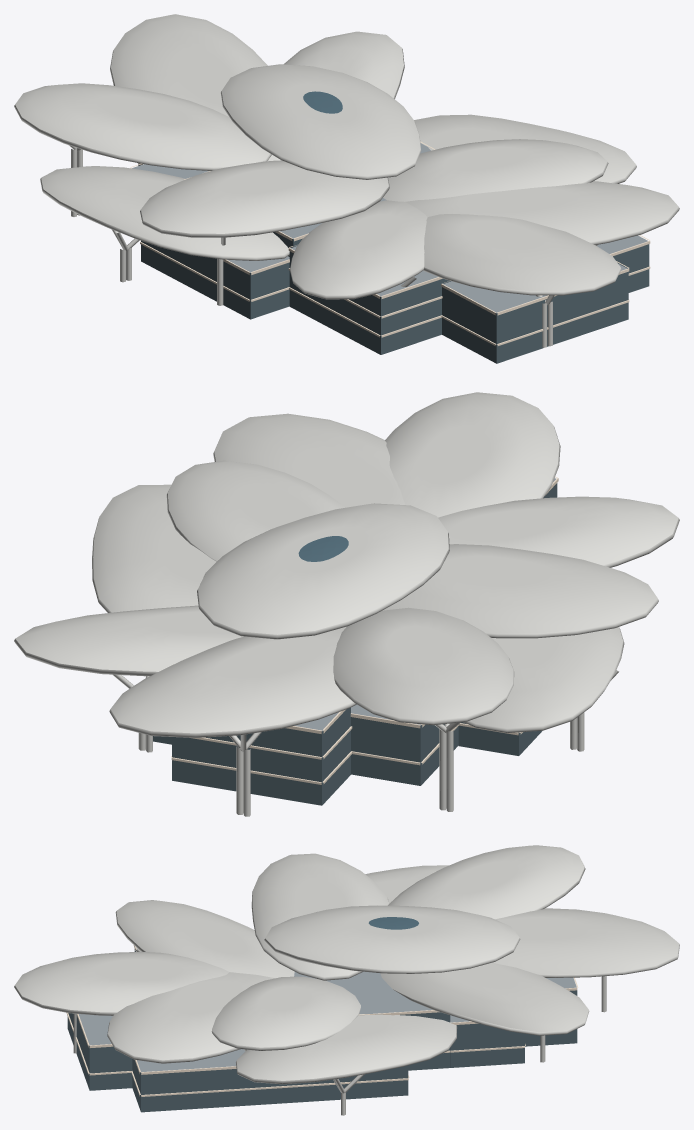
Rendered from tbilisi-public-service-hall.glb.
3 renders of one model, top to bottom at view 1: azimuth 30°, elevation 25°; view 2: azimuth 150°, elevation 25°; view 3: azimuth 270°, elevation 25°, orthographic. The views are drawn at different scales.
Parts seen in each view (by area): view 1: Public Service Hall; view 2: Public Service Hall; view 3: Public Service Hall.
Part boxes in pixels (x1,y1,x2,y2): Public Service Hall: (14,14,679,363); Public Service Hall: (14,392,679,816); Public Service Hall: (14,845,679,1115).
Size of the model in its own units: 131 by 32.08 by 176.
